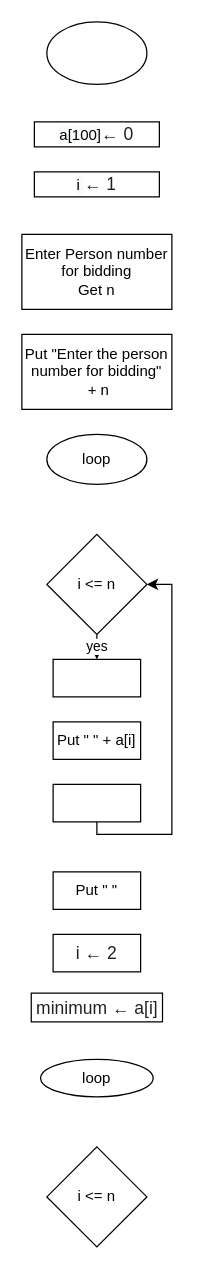
The diagram is 204 pixels wide and 1269 high, and some of its shapes have lost their labels. The centre of each missing label's shape, as x and y in pixels:
"Get a[i]" goes at (96,677).
"i ← i + 1" goes at (96,802).
"start" goes at (96,52).
